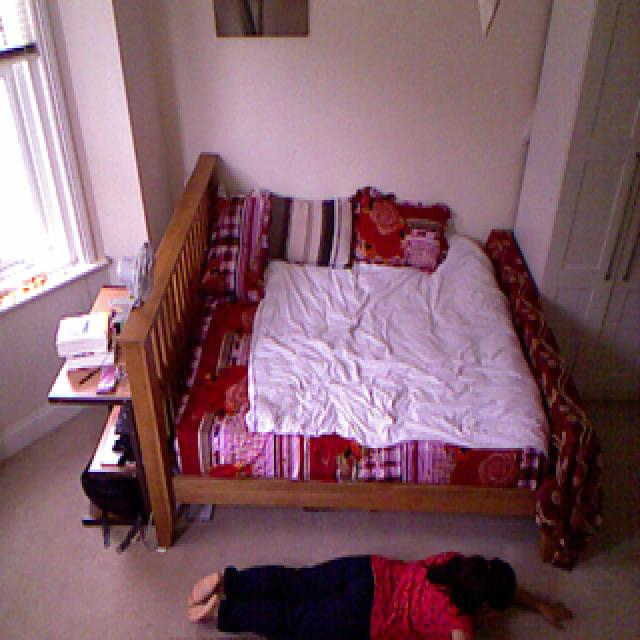lying: (186, 529, 497, 640)
